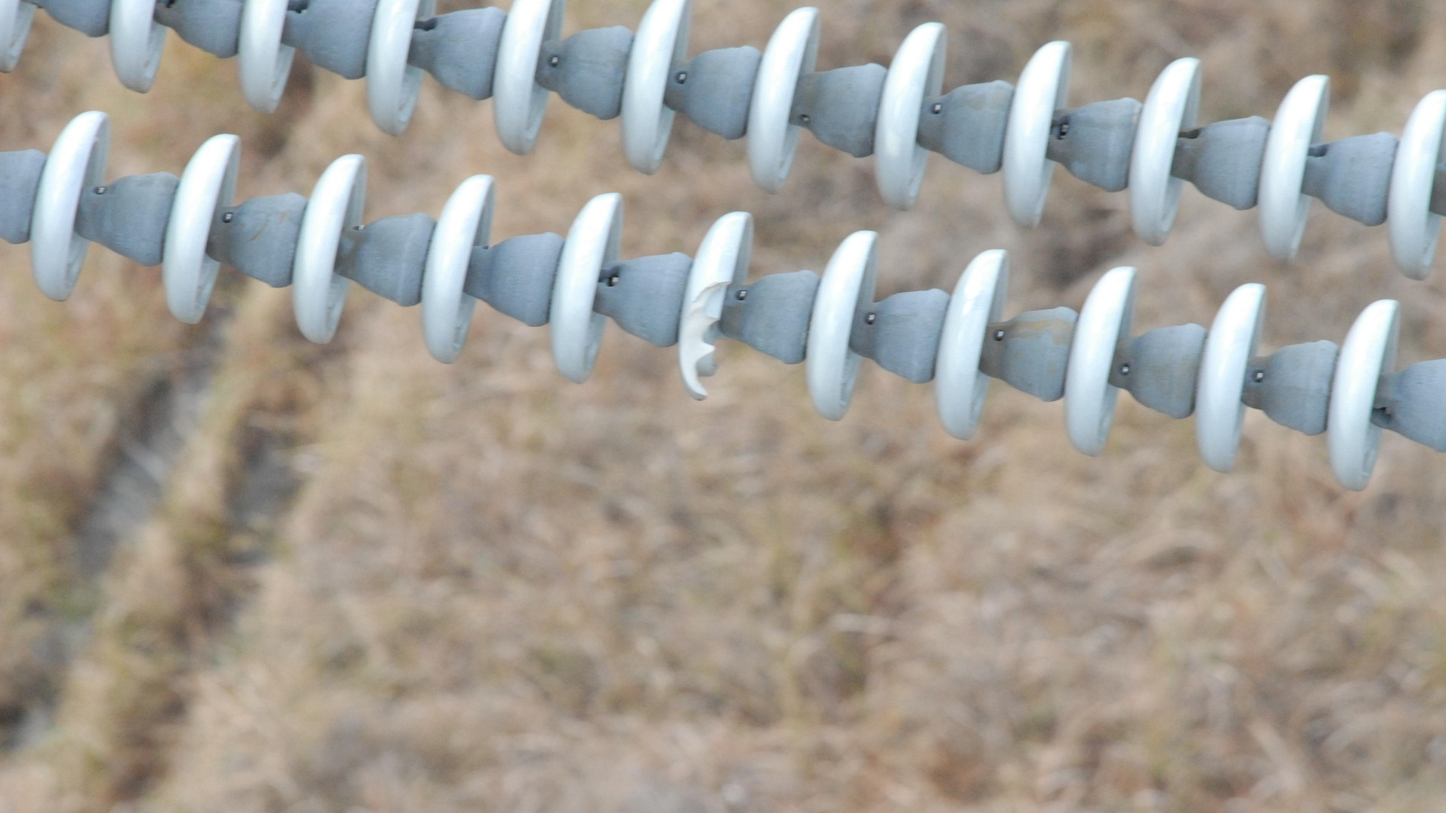insulator: (1, 102, 1446, 497), (1, 1, 1446, 286)
